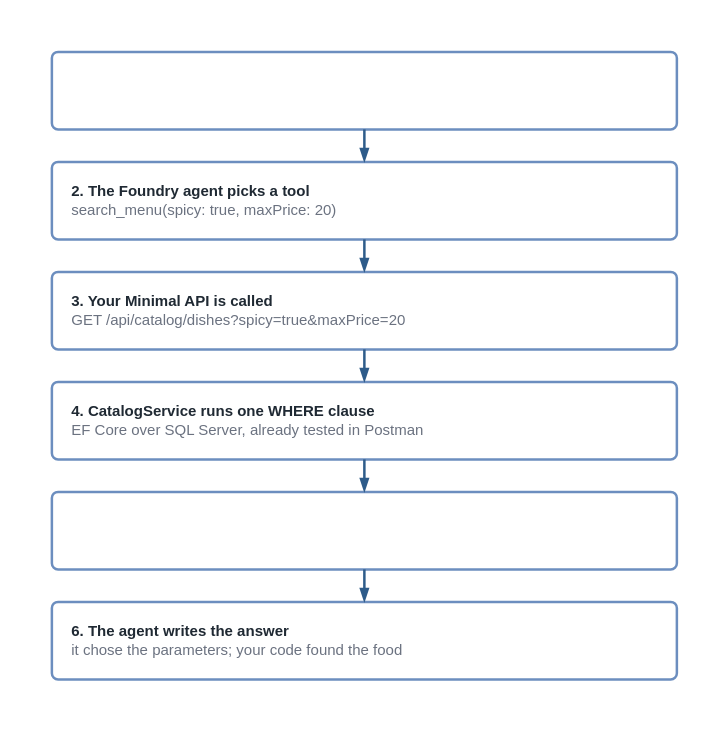
Some shapes in this 728 by 730 pixel diagram are drawn without their labels. The shapes that lost their labels are listed below. From the top down, each one's centre as x and y in pixels, then its label:
[364,90]: 1. "Anything spicy under RM20?" the customer types a sentence
[364,530]: 5. JSON comes back to the agent three dishes, the same JSON Postman showed
